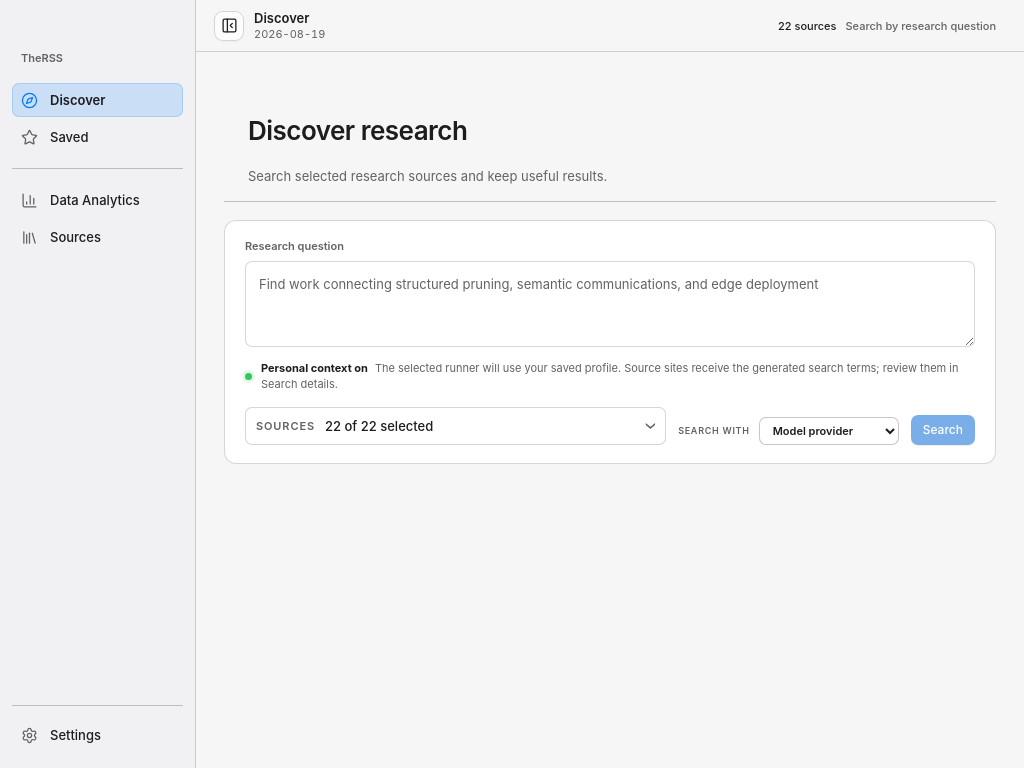
it: App › clears and disables saved personal context across Settings and Discover
Click the button "Settings". click: (98, 735)
box: top-left (12, 718), bottom-right (183, 752)
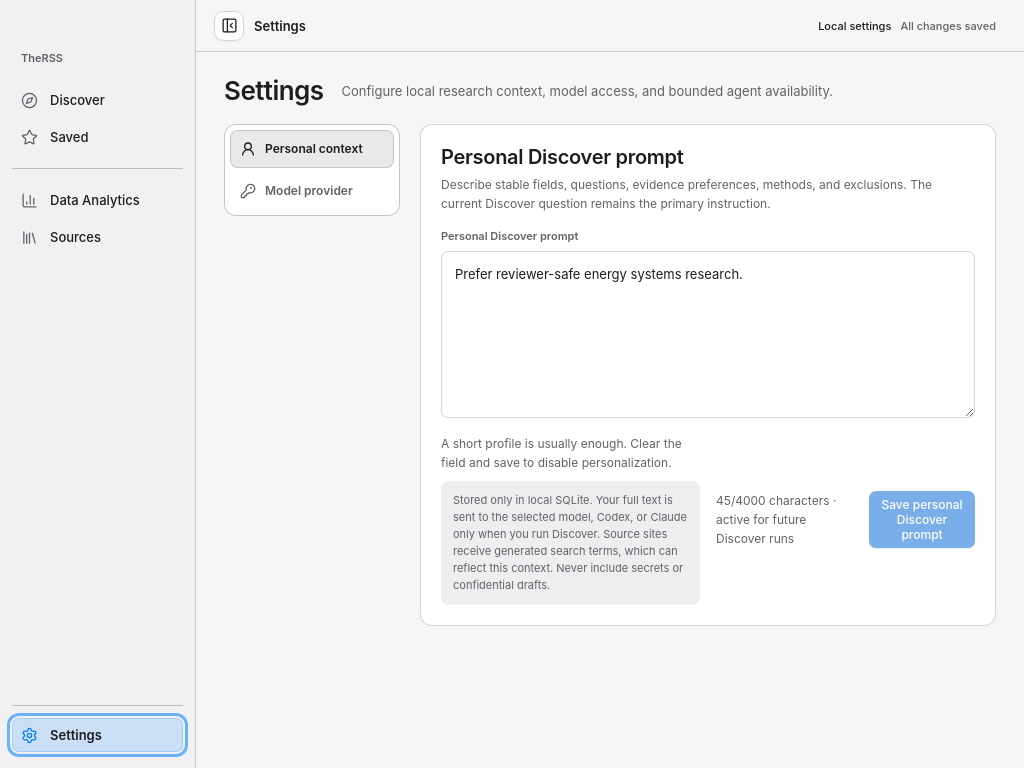
Clear the text box labelled "Personal Discover prompt". click: (708, 335)
box: top-left (441, 251), bottom-right (975, 418)
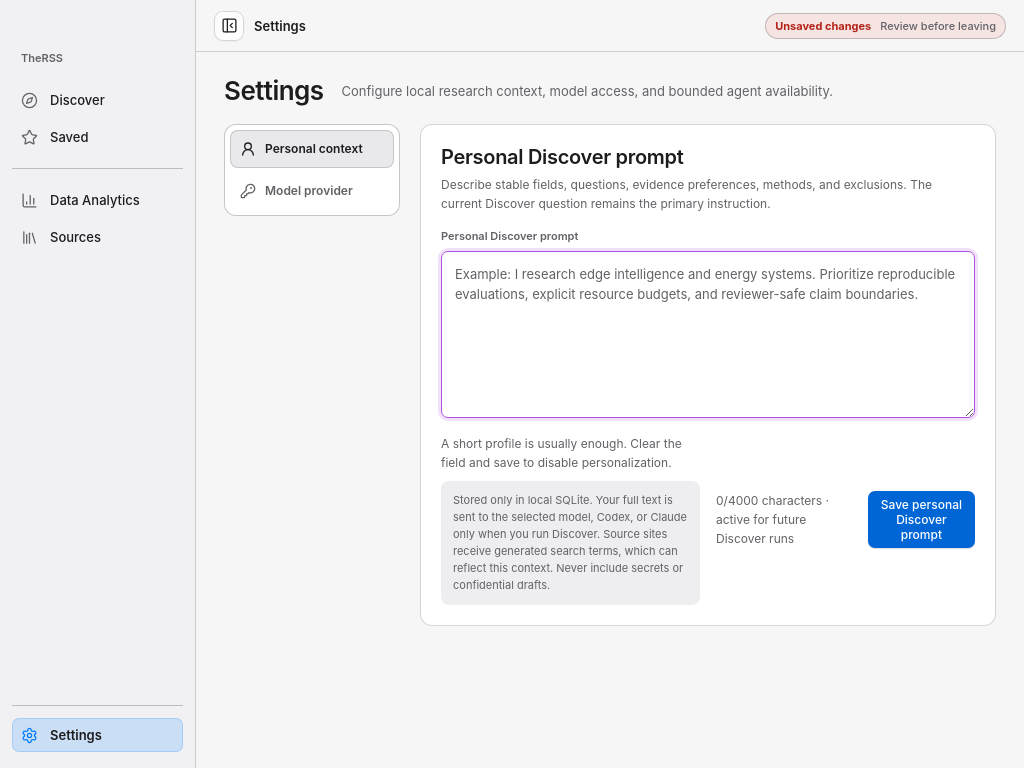
Click the button "Save personal Discover prompt". click: (921, 520)
box: top-left (868, 491), bottom-right (975, 548)
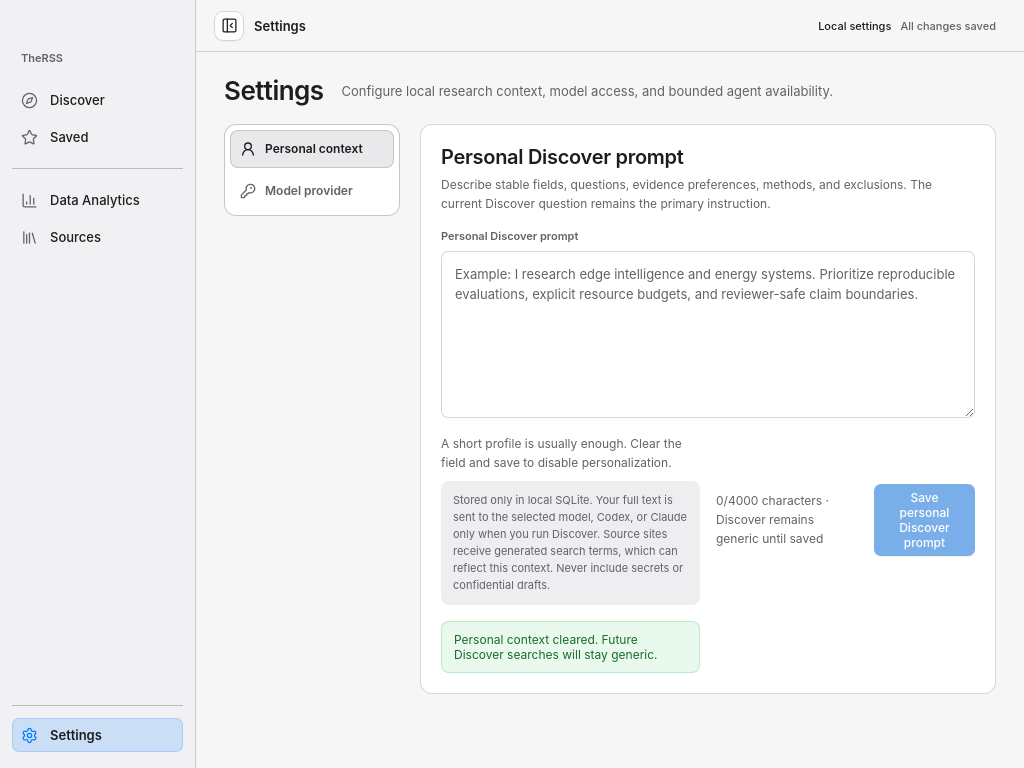
Check: the message shows "Personal context cleared", box top-left (454, 632), bottom-right (658, 662)
Click the button with aria-label "01 Discover". click: (98, 100)
box: top-left (12, 83), bottom-right (183, 117)
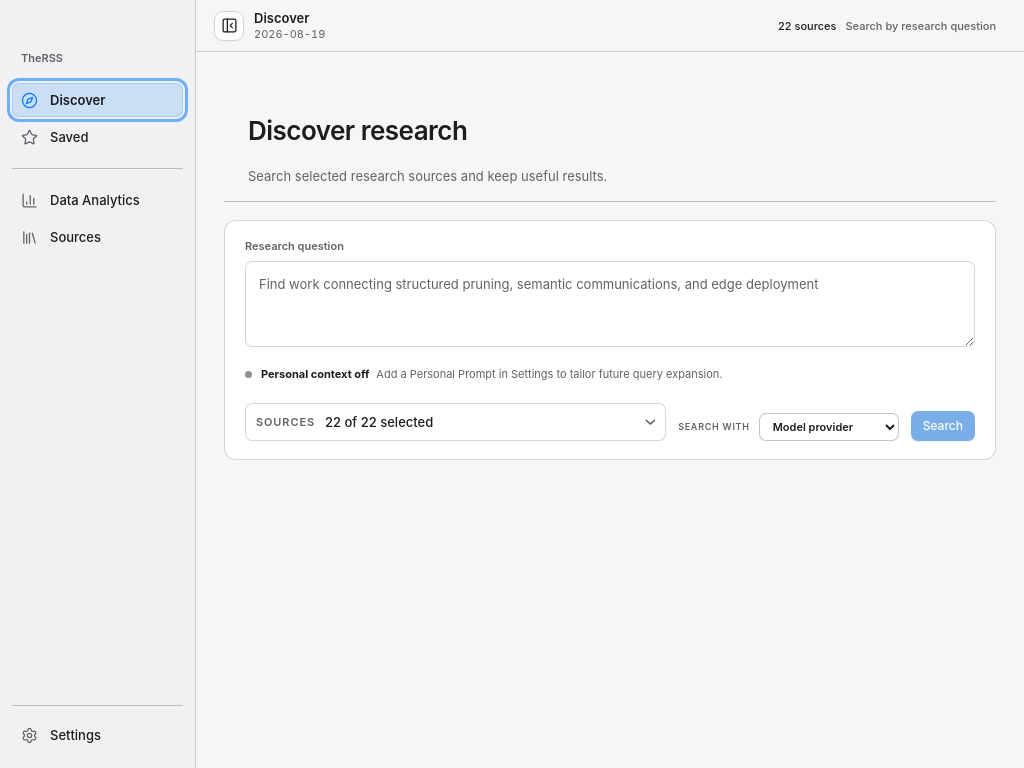
Check: the message named "Personal prompt status" shows "Personal context off", box top-left (261, 367), bottom-right (369, 381)
